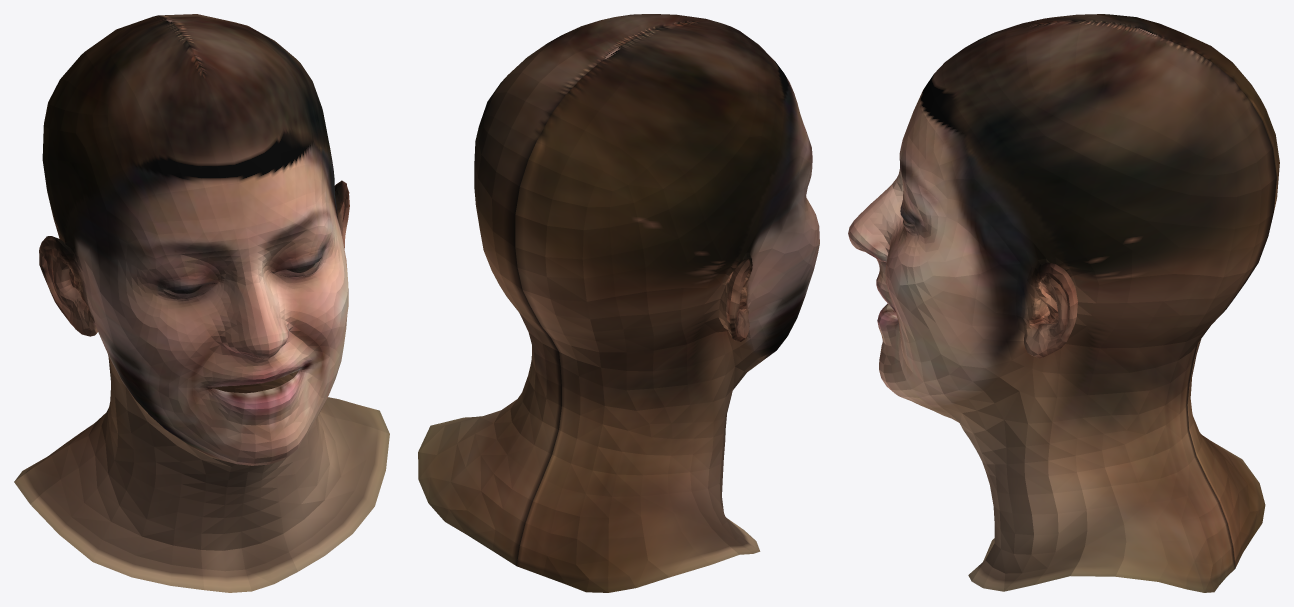
File: face_video_frame0510.obj
3 renders of one model, left to right at view 1: azimuth 30°, elevation 25°; view 2: azimuth 150°, elevation 25°; view 3: azimuth 270°, elevation 25°, orthographic. The views are drawn at different scales.
Size of the model in its own units: 0.2083 by 0.3148 by 0.2279.
1 material, 1 textured.
